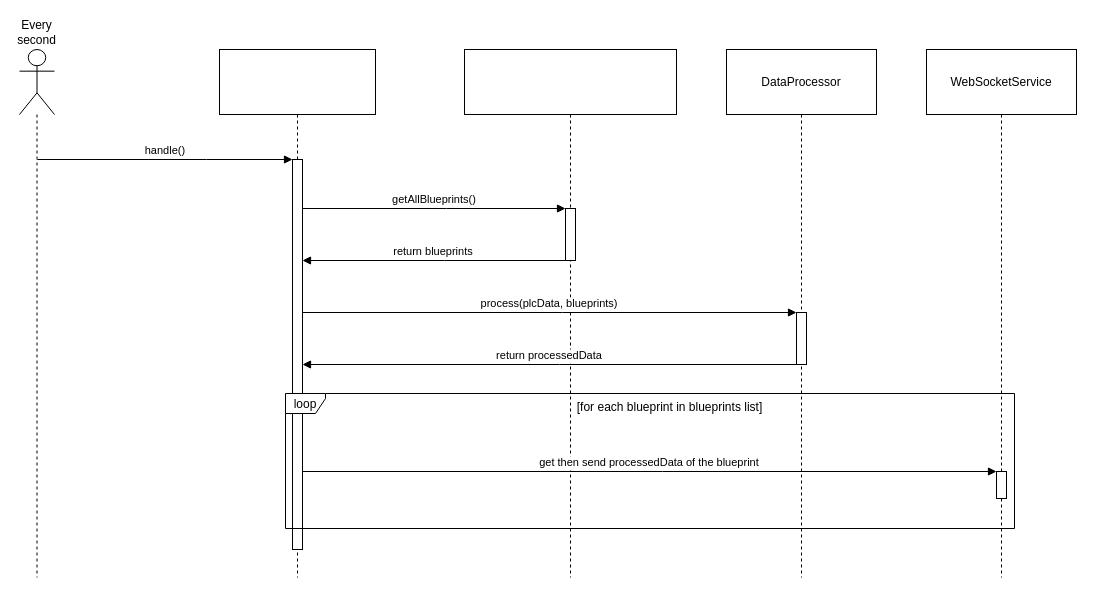
Some shapes in this 1094 by 595 pixel diagram are drawn without their labels. Here are the shapes that lost their labels. From the top down, the box of each, then its label:
(218, 48, 376, 578): MonitoringHandler
(464, 48, 676, 578): BlueprintPersistenceService
